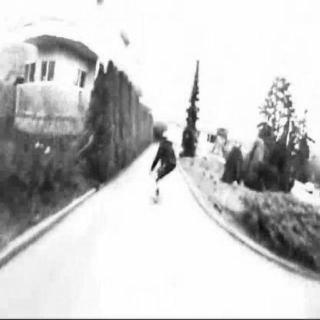other: (146, 120, 180, 210)
